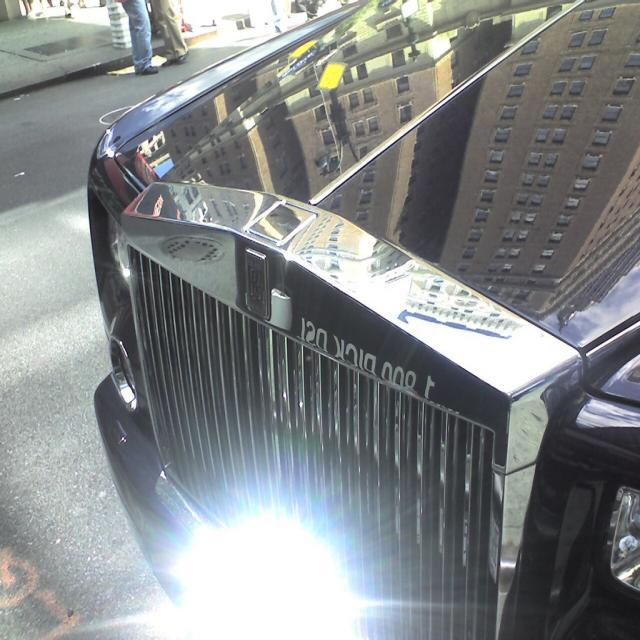truck: (72, 10, 586, 640)
